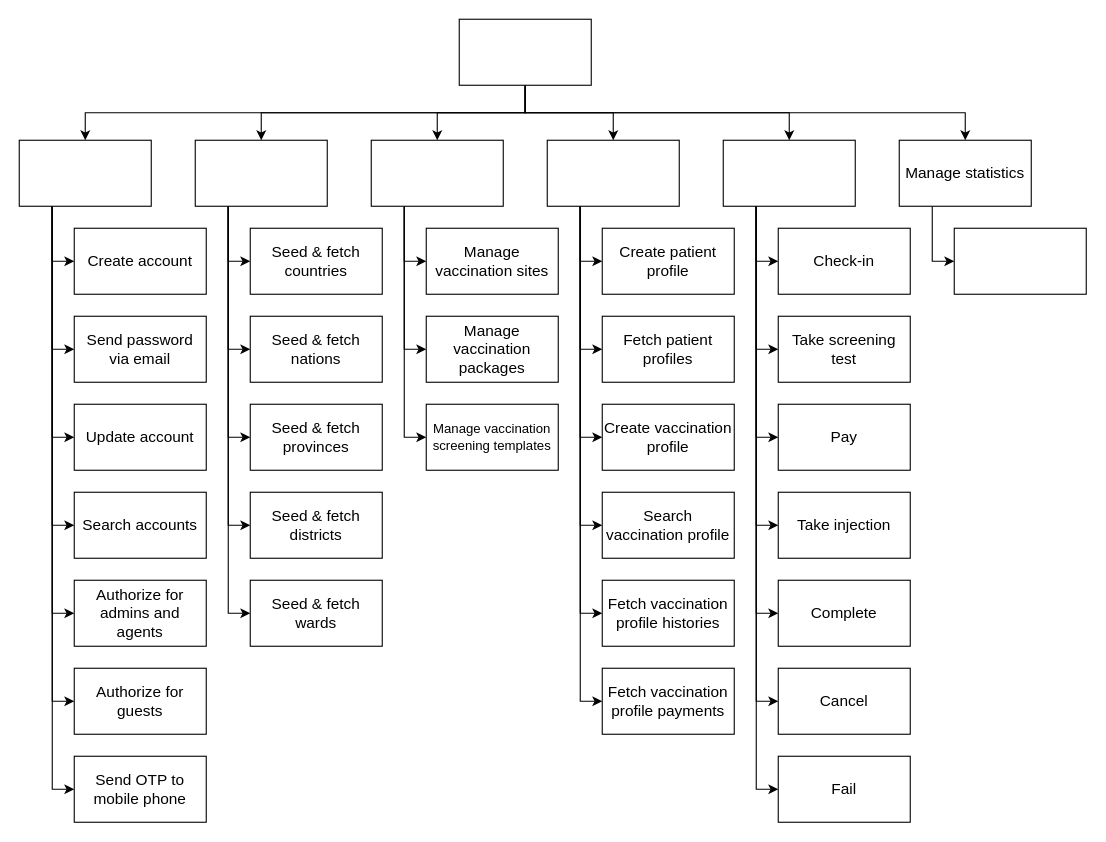
Image size: 1106x842. Some labels were removed from this diagram. Each missing label, with the centre of its shape:
"Authorize" belongs at point 84,172.
"Manage master resources" belongs at point 260,172.
"Manage profiles" belongs at point 612,172.
"Manage vaccination resources" belongs at point 436,172.
"Process vaccination profiles" belongs at point 788,172.
"VRMS" belongs at point 524,51.
